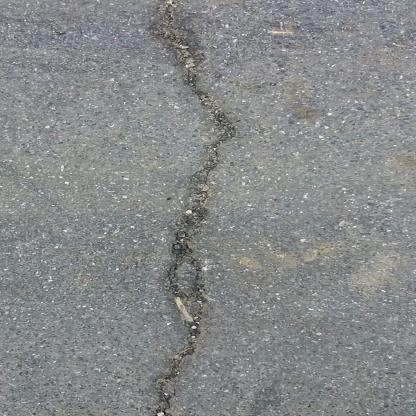Cracks: (142, 0, 251, 416)
